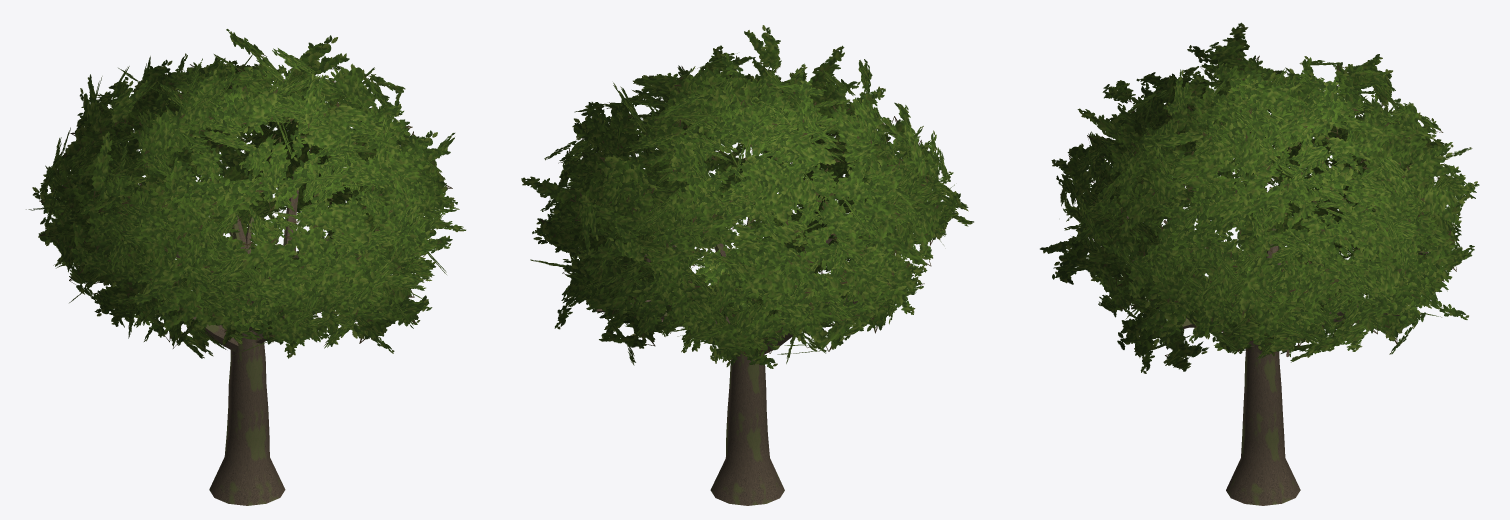
File: tree_oak.glb
The picture shows the model from 3 angles, left to right: view 1: azimuth 30°, elevation 25°; view 2: azimuth 150°, elevation 25°; view 3: azimuth 270°, elevation 25°; orthographic projection. The views are drawn at different scales.
Visible parts, largest first — view 1: tree_oak; view 2: tree_oak; view 3: tree_oak.
Part boxes in pixels (bbox=[...]): tree_oak: bbox=[26, 29, 465, 505]; tree_oak: bbox=[521, 25, 973, 505]; tree_oak: bbox=[1040, 22, 1479, 505].
Size of the model in its own units: 7.58 by 7.75 by 7.51.
Materials: 2 (2 with a texture image).
